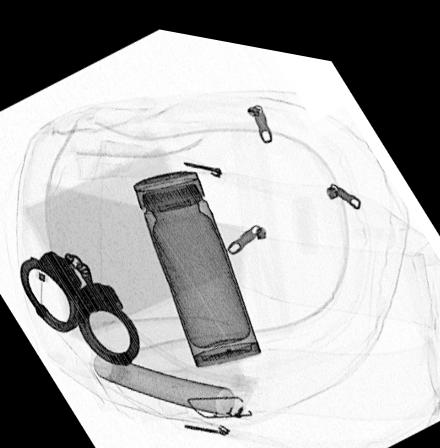HandCuffs: (19, 245, 141, 362)
